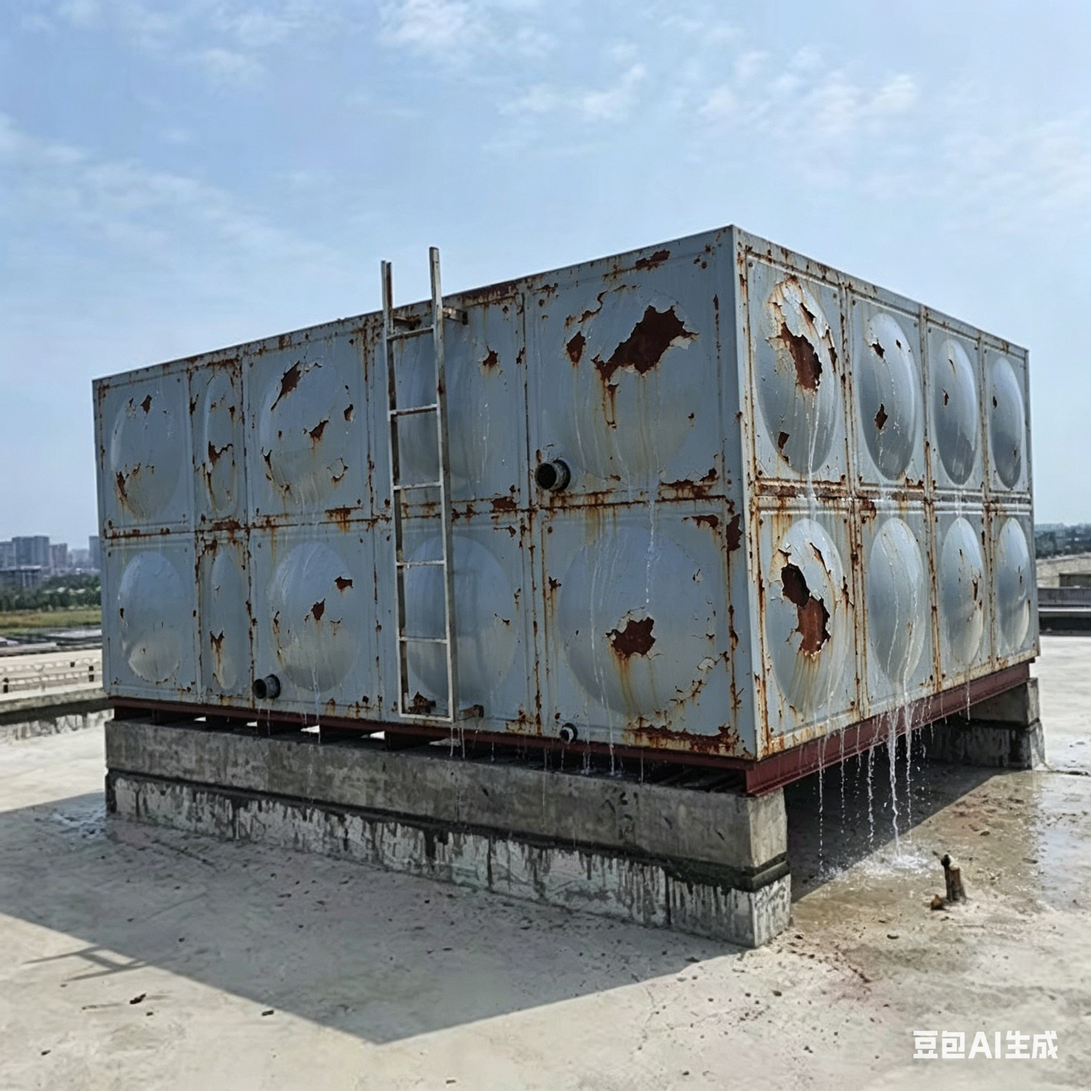Leakage: (792, 712, 1063, 894)
